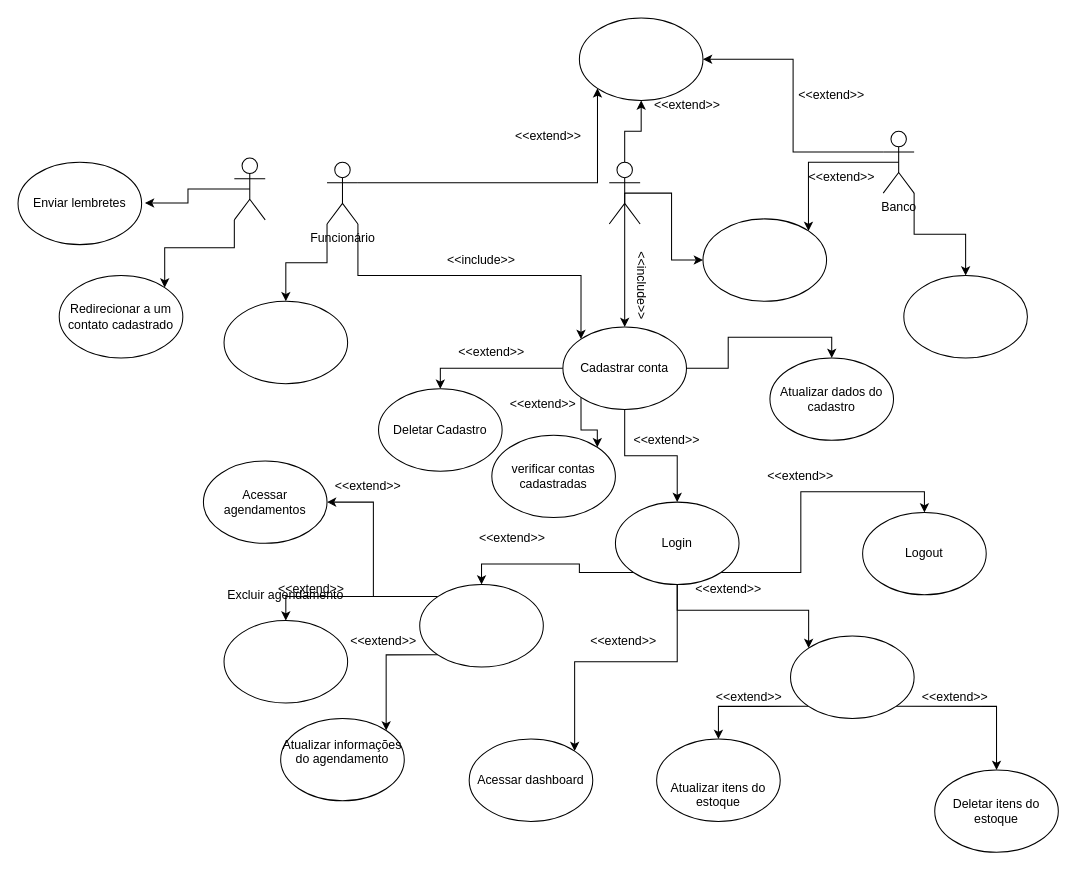
Image size: 1076x870. Some labels were removed from this diagram. The centre of each missing label's shape, as x and y in pixels:
Agendar: pixel 481 625
Bloquear agendamentos: pixel 285 342
Cadastrar itens do estoque: pixel 851 676
Cancelar pagamento: pixel 640 58
Cliente: pixel 624 192
Gerar QR code de pagamento: pixel 965 316
Pagar: pixel 764 259
Whatsapp: pixel 249 188
